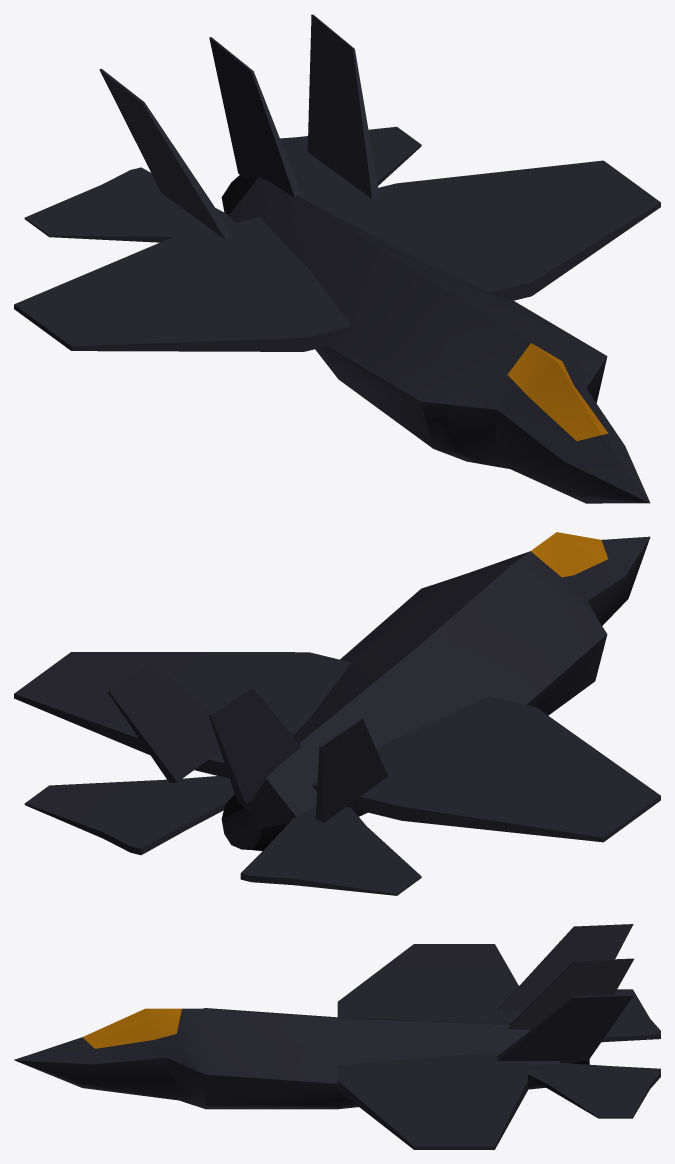
3 views of the same model, one above another, from view 1: azimuth 30°, elevation 25°; view 2: azimuth 150°, elevation 25°; view 3: azimuth 270°, elevation 25° (orthographic). The views are drawn at different scales.
Parts seen in each view (by area): view 1: f35wings03, f35Cabin, f35wings04, f35wings01, f35wings02, f35Wings05, f35Wings06; view 2: f35Cabin, f35wings03, f35Wings06, f35wings01, f35wings04, f35wings02, f35Wings05; view 3: f35Cabin, f35wings03, f35wings04, f35Wings06, f35Wings05, f35wings02, f35wings01.
Part boxes in pixels (x1,y1,x2,y2): f35wings03: (14, 160, 660, 351); f35Cabin: (221, 175, 650, 503); f35wings04: (307, 14, 379, 199); f35wings01: (24, 167, 234, 242); f35wings02: (209, 37, 303, 198); f35Wings05: (99, 68, 233, 239); f35Wings06: (280, 126, 421, 203); f35Cabin: (221, 532, 650, 851); f35wings03: (14, 652, 660, 842); f35Wings06: (24, 776, 234, 855); f35wings01: (240, 806, 421, 895); f35wings04: (107, 664, 220, 782); f35wings02: (208, 687, 301, 804); f35Wings05: (315, 718, 387, 823); f35Cabin: (14, 1008, 589, 1109); f35wings03: (337, 944, 527, 1149); f35wings04: (497, 994, 633, 1060); f35Wings06: (528, 1063, 660, 1118); f35Wings05: (497, 924, 633, 1010); f35wings02: (508, 958, 633, 1029); f35wings01: (601, 989, 660, 1042).
Bounding box in the file's own units: 273 × 83.88 × 368.
